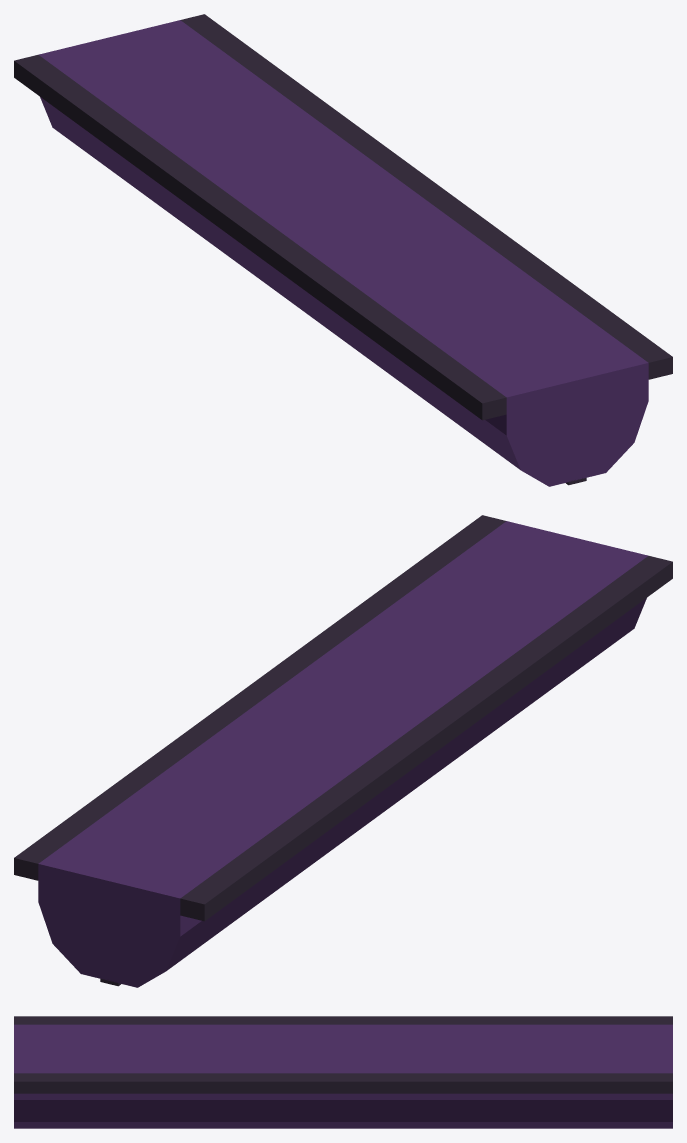
The model's file is SM_SB_Kit_AlienCeilingRib.fbx.
The picture shows the model from 3 angles, top to bottom: view 1: azimuth 30°, elevation 25°; view 2: azimuth 150°, elevation 25°; view 3: azimuth 270°, elevation 25°; orthographic projection. The views are drawn at different scales.
Parts seen in each view (by area): view 1: SM_SB_Kit_AlienCeilingRib; view 2: SM_SB_Kit_AlienCeilingRib; view 3: SM_SB_Kit_AlienCeilingRib.
Boxes of the visible parts, bbox=[...] form: SM_SB_Kit_AlienCeilingRib: bbox=[14, 14, 672, 486]; SM_SB_Kit_AlienCeilingRib: bbox=[14, 515, 672, 987]; SM_SB_Kit_AlienCeilingRib: bbox=[14, 1016, 672, 1128].
Size of the model in its own units: 94 by 400 by 48.5.
